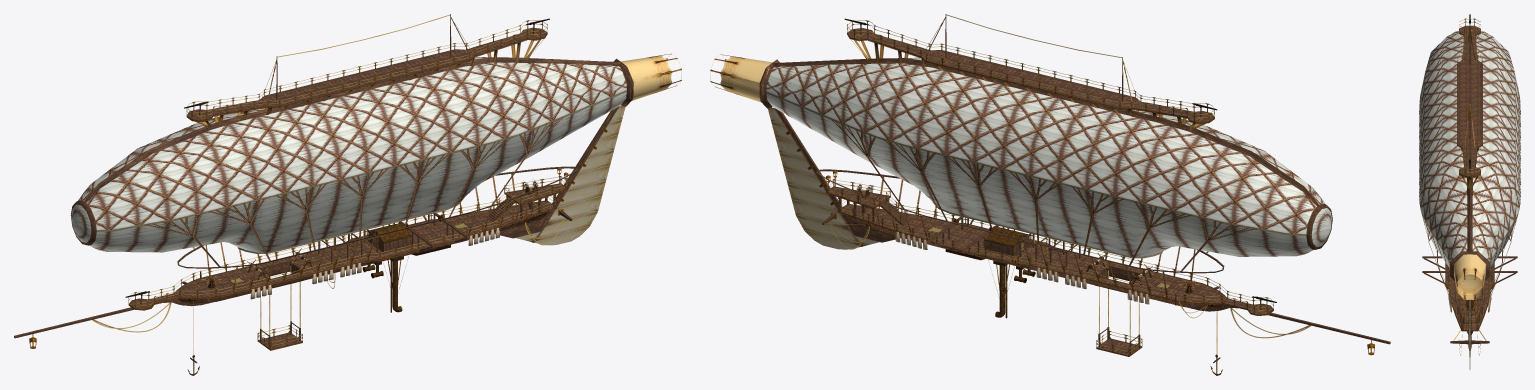
Rendered from zeppilin.glb.
The picture shows the model from 3 angles, left to right: view 1: azimuth 30°, elevation 25°; view 2: azimuth 150°, elevation 25°; view 3: azimuth 270°, elevation 25°; orthographic projection. The views are drawn at different scales.
Parts seen in each view (by area): view 1: zeppilin-col; view 2: zeppilin-col; view 3: zeppilin-col.
Part boxes in pixels (bbox=[...]): zeppilin-col: bbox=[14, 14, 681, 375]; zeppilin-col: bbox=[710, 14, 1390, 375]; zeppilin-col: bbox=[1419, 14, 1520, 369].
Size of the model in its own units: 139 by 59.16 by 21.39.
Materials: 5 (5 with a texture image).
